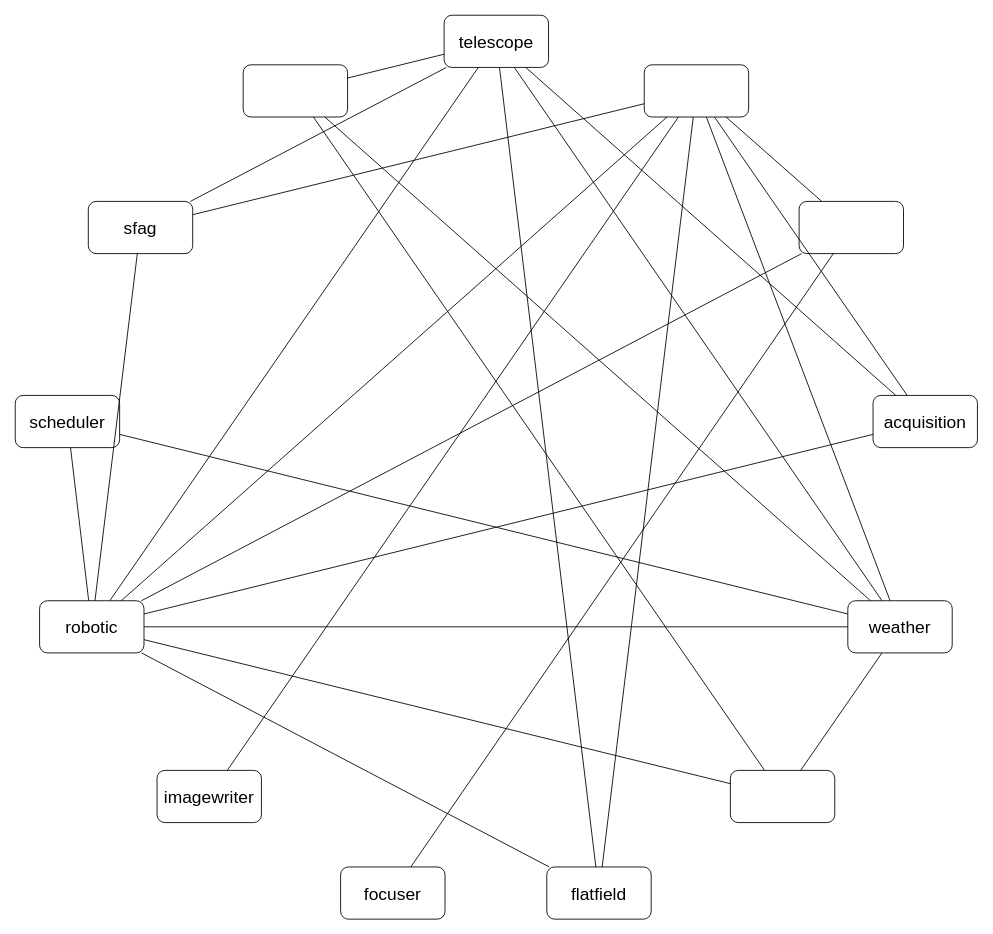
This 993x934 diagram has some shape labels left out. The shapes that lost their labels are listed below. From the top down, each one's centre as x and y in pixels, then its label:
pixel 295 90: startup
pixel 696 90: sbig6303e
pixel 850 227: autofocus
pixel 782 796: dome
